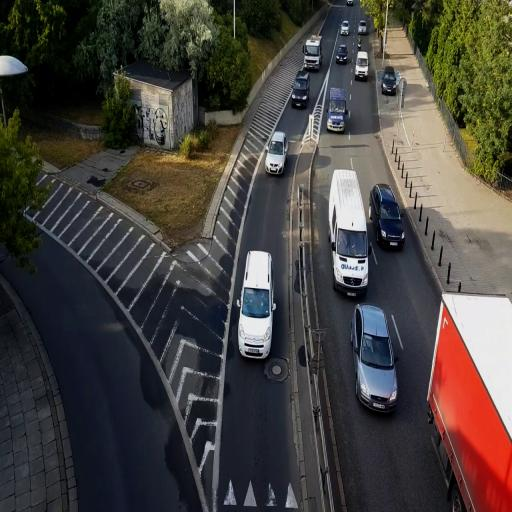vehicle: (427, 294, 512, 509), (350, 303, 400, 413), (329, 169, 369, 295), (238, 249, 274, 360), (374, 184, 406, 251), (265, 131, 287, 176), (327, 88, 348, 133), (291, 72, 310, 108), (380, 68, 400, 95), (336, 43, 348, 64)
